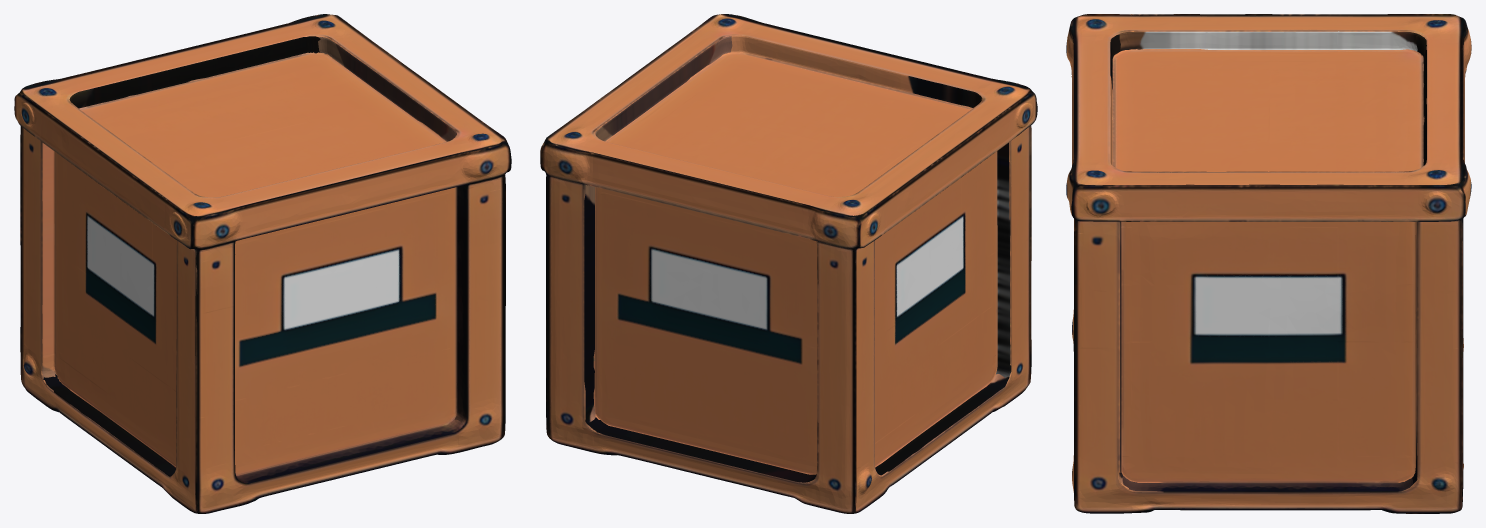
The model's file is hunyuan_supply_crate_textured.glb.
3 renders of one model, left to right at view 1: azimuth 30°, elevation 25°; view 2: azimuth 150°, elevation 25°; view 3: azimuth 270°, elevation 25°, orthographic. The views are drawn at different scales.
Visible parts, largest first — view 1: tmphpgjlkmx.ply; view 2: tmphpgjlkmx.ply; view 3: tmphpgjlkmx.ply.
Part boxes in pixels (<box>): tmphpgjlkmx.ply: <box>14,14,511,513</box>; tmphpgjlkmx.ply: <box>540,14,1037,513</box>; tmphpgjlkmx.ply: <box>1066,14,1471,513</box>.
Size of the model in its own units: 2 by 1.81 by 1.97.
1 material, 1 textured.
